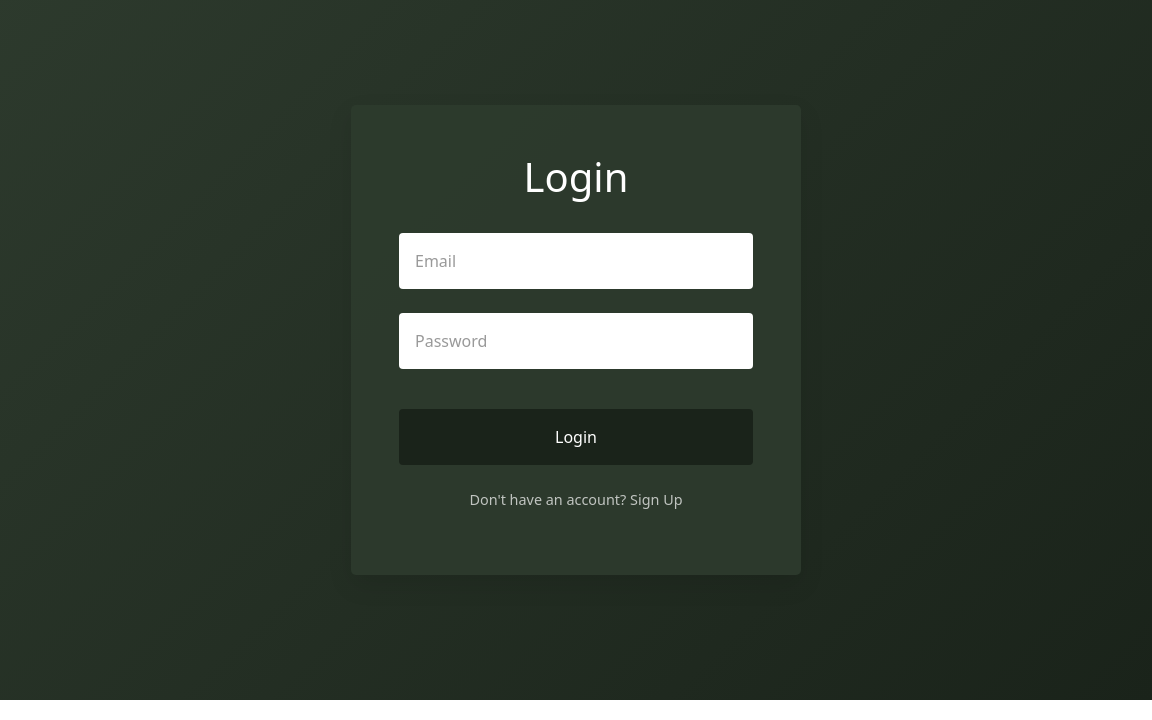
Test case: SignUp component › Password must be minimum of 8 characters long
The width and height of the screenshot is (1152, 720).
Click the text "Don't have an account? Sign Up" at (576, 500), box [470,489,682,511]
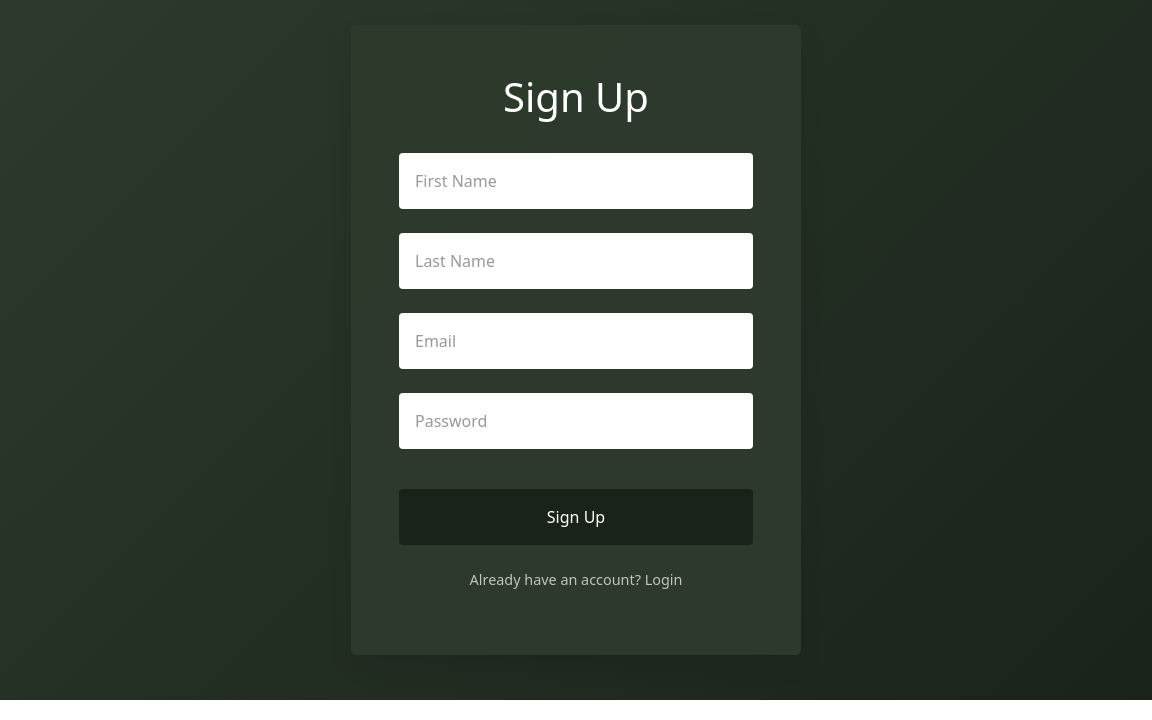
Type "Peter" into the field with placeholder "First Name" at (576, 181), box [399,153,753,209]
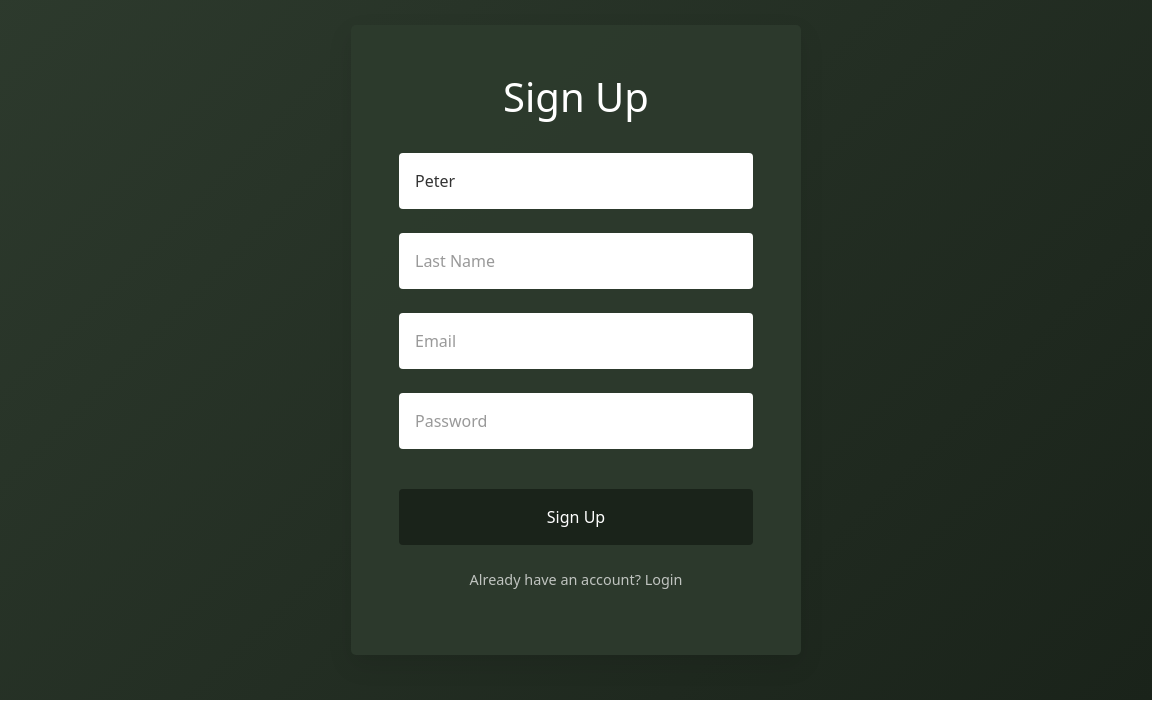
Type "Parker" into the field with placeholder "Last Name" at (576, 261), box [399,233,753,289]
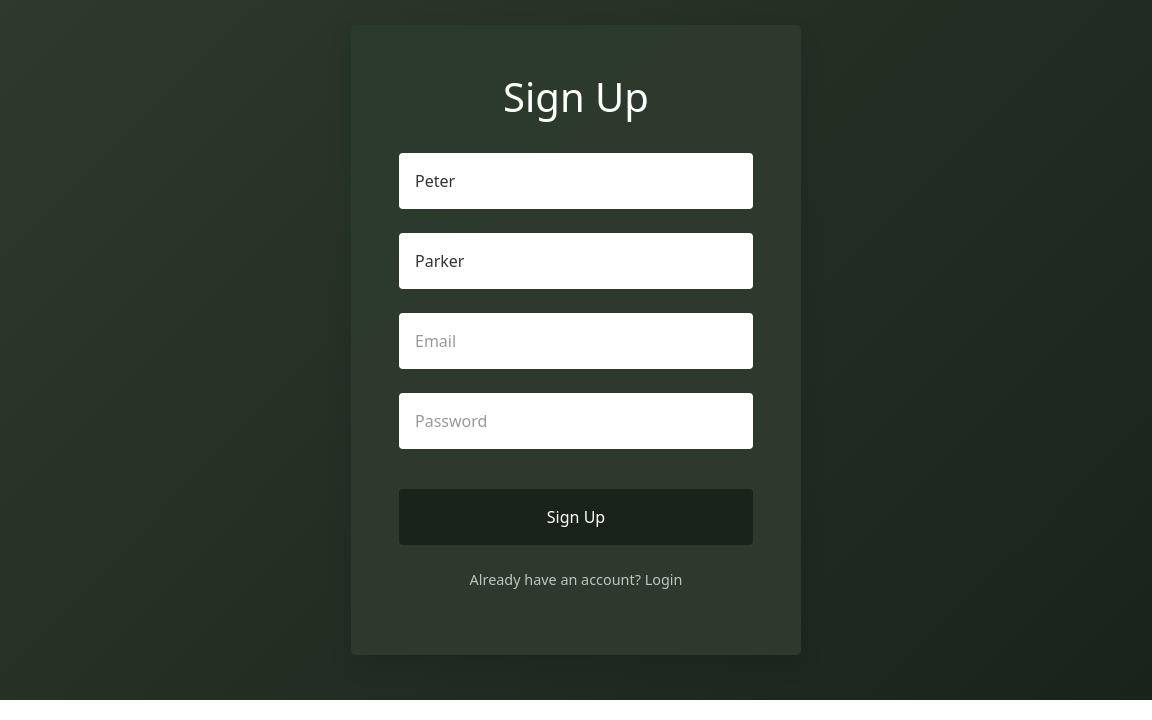
Type "H123456@gmail.com" into the field with placeholder "Email" at (576, 341), box [399,313,753,369]
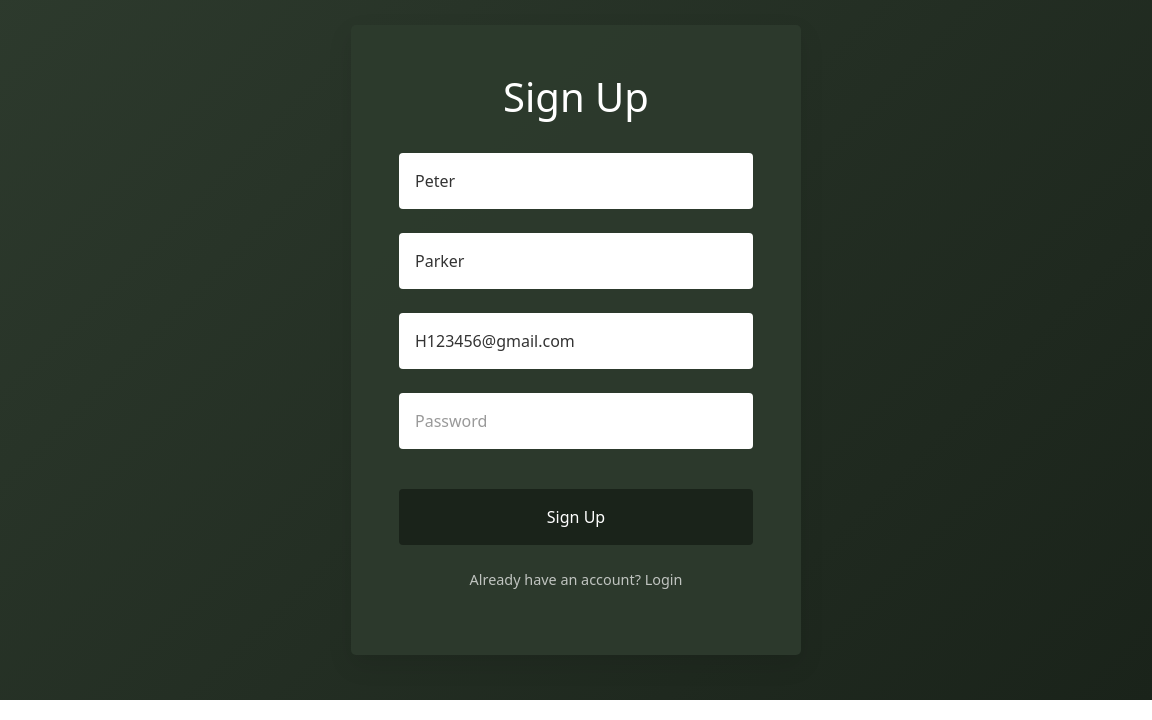
Type "234" into the password field with placeholder "Password" at (576, 421), box [399,393,753,449]
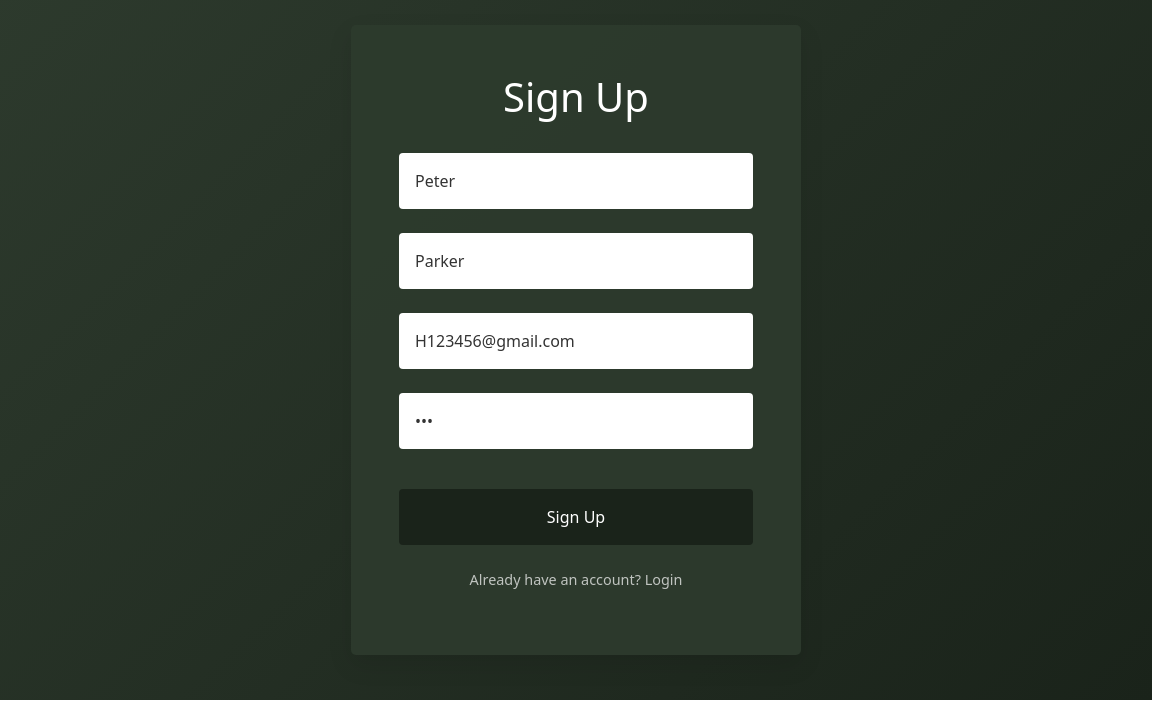
Click the button "Sign Up" at (576, 517), box [399,489,753,545]
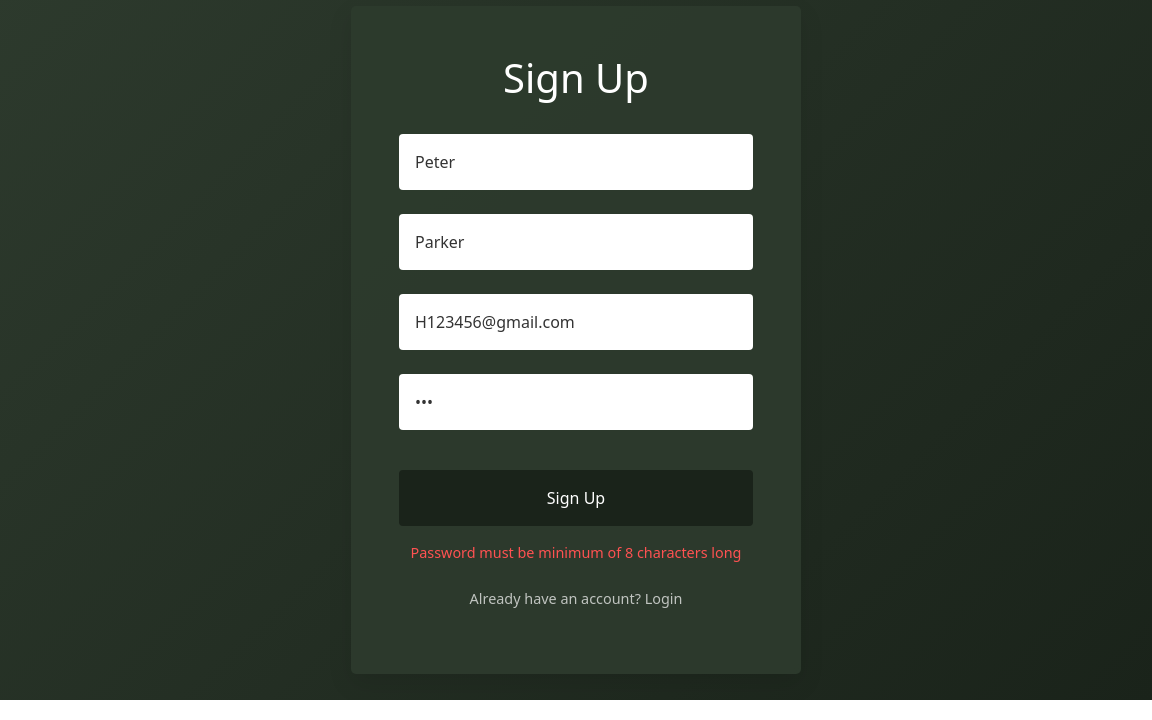
Now the text "Password must be minimum of 8 characters long" is shown, box [399,542,753,564]
